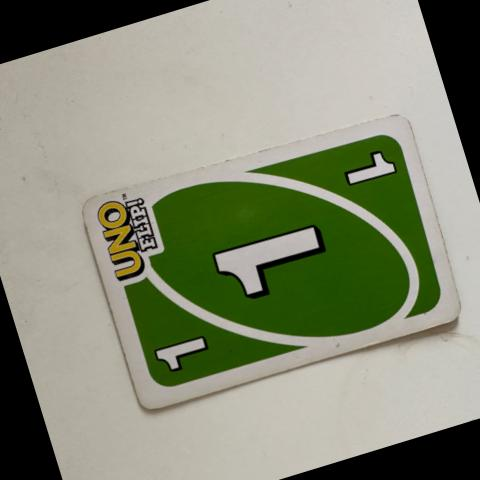lgreen-1: (128, 301, 238, 401)
